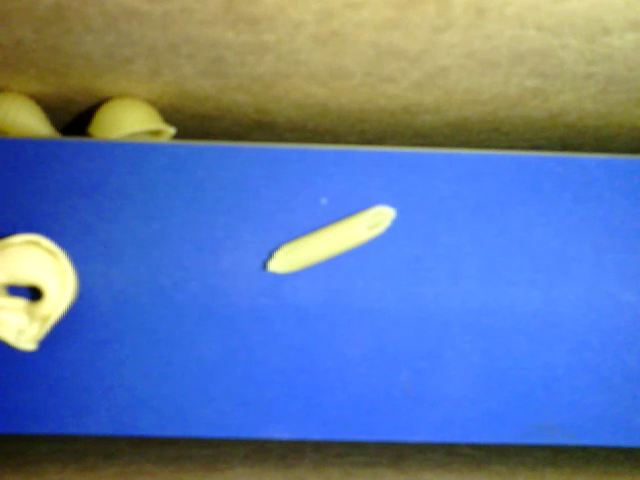penne: (267, 203, 396, 276)
shell: (89, 94, 176, 141), (1, 88, 63, 142)
tortellini: (1, 232, 78, 352)
